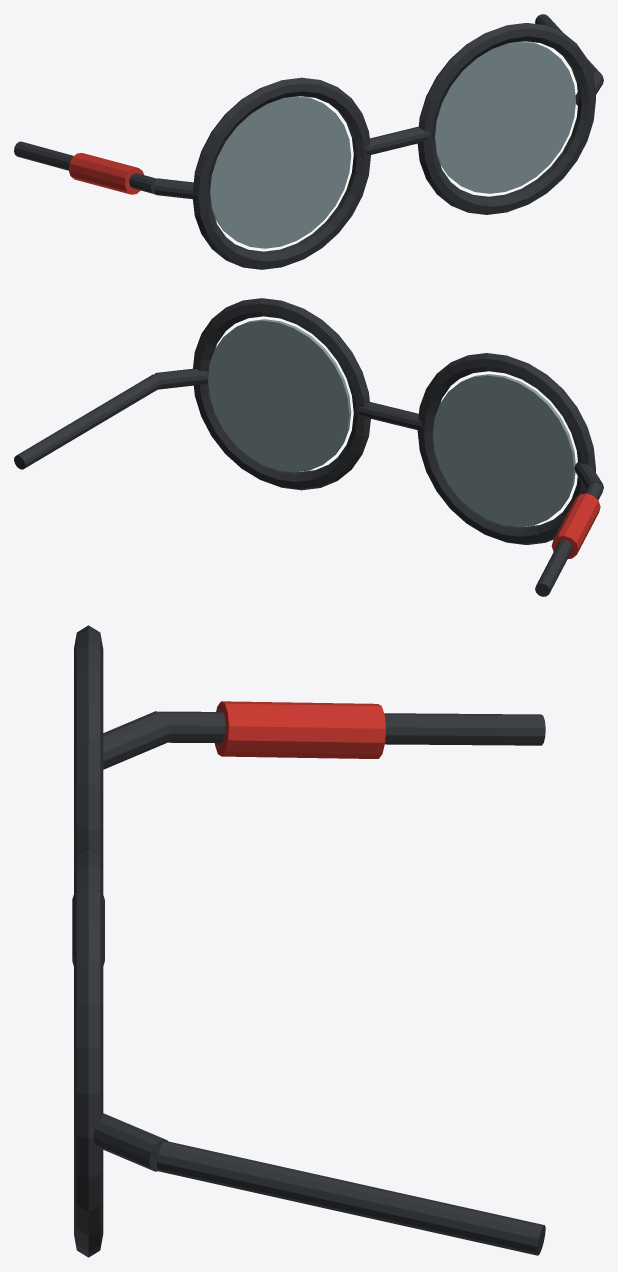
Rendered from glasses-wrapped-v1-7foqelxn.glb.
The picture shows the model from 3 angles, top to bottom: view 1: azimuth 30°, elevation 25°; view 2: azimuth 150°, elevation 25°; view 3: azimuth 270°, elevation 25°; orthographic projection. The views are drawn at different scales.
Visible parts, largest first — view 1: Lens pane 1, Lens pane 2, Lens rim 1, Lens rim 2, Red winding around left temple, Temple arm, Nose bridge, Temple hinge; view 2: Lens pane 2, Lens pane 1, Lens rim 2, Lens rim 1, Temple arm.001, Red winding around left temple, Temple arm, Nose bridge, Temple hinge.001, Temple hinge; view 3: Temple arm.001, Lens rim 2, Red winding around left temple, Temple arm, Lens rim 1, Temple hinge, Temple hinge.001.
Boxes of the visible parts, box(x1,y1,x2,y2) form: Lens pane 1: box(210, 96, 351, 248); Lens pane 2: box(435, 41, 575, 193); Lens rim 1: box(192, 77, 370, 269); Lens rim 2: box(417, 23, 595, 214); Red winding around left temple: box(68, 153, 143, 194); Temple arm: box(14, 141, 156, 194); Nose bridge: box(366, 126, 429, 154); Temple hinge: box(154, 178, 193, 199); Lens pane 2: box(208, 319, 351, 472); Lens pane 1: box(433, 374, 575, 527); Lens rim 2: box(193, 298, 370, 490); Lens rim 1: box(417, 353, 595, 544); Temple arm.001: box(14, 374, 159, 469); Red winding around left temple: box(551, 493, 600, 558); Temple arm: box(535, 482, 603, 596); Nose bridge: box(359, 402, 422, 429); Temple hinge.001: box(155, 368, 207, 389); Temple hinge: box(574, 462, 603, 488); Temple arm.001: box(156, 1141, 545, 1255); Lens rim 2: box(74, 845, 103, 1257); Red winding around left temple: box(215, 701, 385, 758); Temple arm: box(161, 711, 545, 745); Lens rim 1: box(74, 625, 103, 867); Temple hinge: box(103, 711, 171, 769); Temple hinge.001: box(93, 1113, 167, 1171).
Bounding box in the file's own units: 2.05 × 0.684 × 0.7841.
